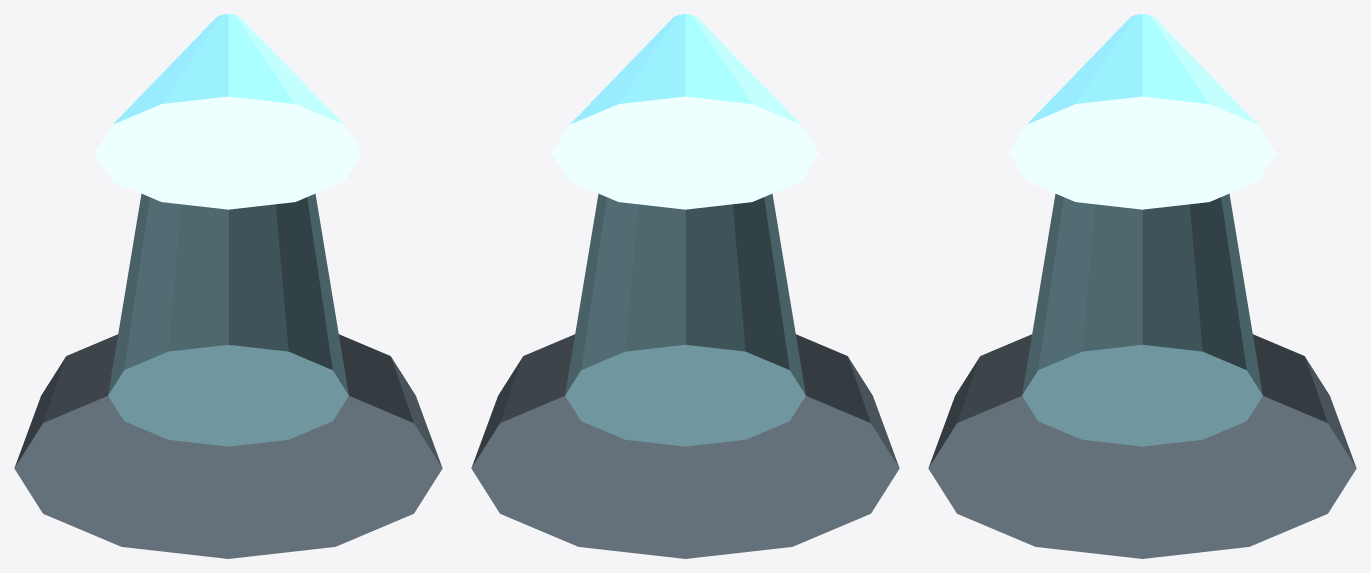
Rendered from arc-coil.gltf.
3 renders of one model, left to right at view 1: azimuth 30°, elevation 25°; view 2: azimuth 150°, elevation 25°; view 3: azimuth 270°, elevation 25°, orthographic.
Parts seen in each view (by area): view 1: ArcCoil; view 2: ArcCoil; view 3: ArcCoil.
Boxes of the visible parts, x1,y1,x2,y2 form: ArcCoil: (14, 14, 442, 558); ArcCoil: (471, 14, 899, 558); ArcCoil: (928, 14, 1356, 558).
Bounding box in the file's own units: 1.6 × 1.85 × 1.6.
